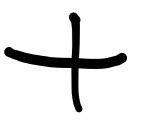plus: (4, 12, 127, 115)
